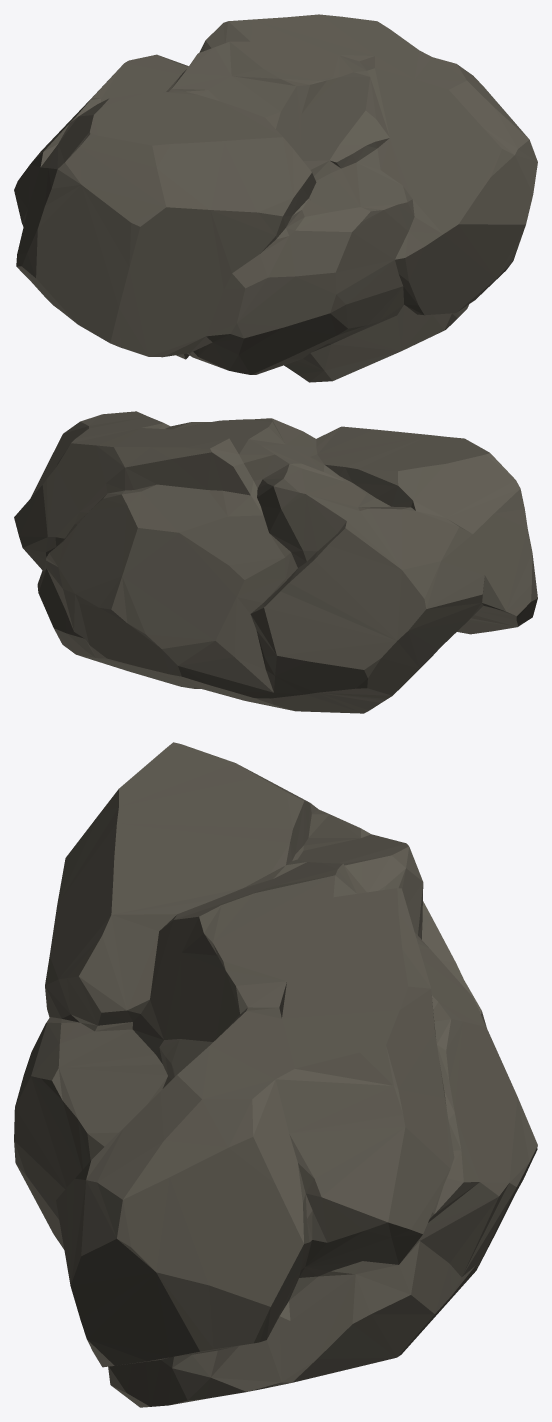
Rendered from synty-rock-pile-01.gltf.
3 renders of one model, top to bottom at view 1: azimuth 30°, elevation 25°; view 2: azimuth 150°, elevation 25°; view 3: azimuth 270°, elevation 25°, orthographic. The views are drawn at different scales.
Parts seen in each view (by area): view 1: SM_Rock_Pile_01; view 2: SM_Rock_Pile_01; view 3: SM_Rock_Pile_01.
Part boxes in pixels (<box>): SM_Rock_Pile_01: <box>14,14,537,382</box>; SM_Rock_Pile_01: <box>14,411,537,713</box>; SM_Rock_Pile_01: <box>14,742,537,1407</box>.
Bounding box in the file's own units: 6.62 × 3.89 × 4.02.
1 material, 1 textured.
